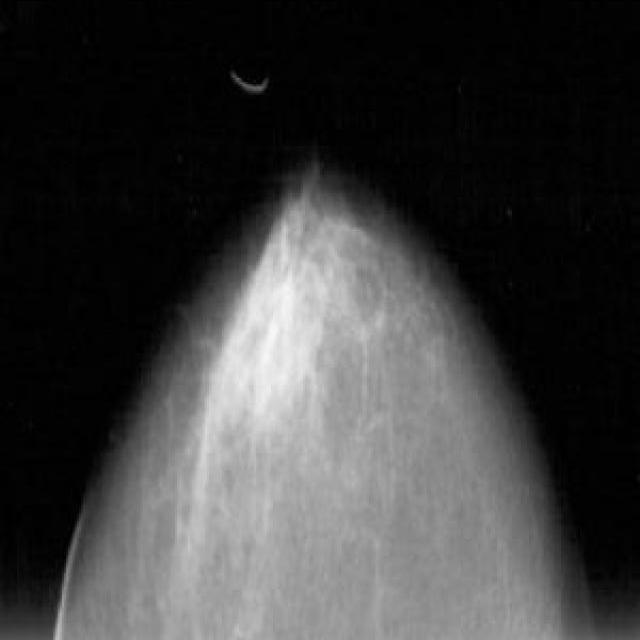tumor: (202, 195, 352, 426)
